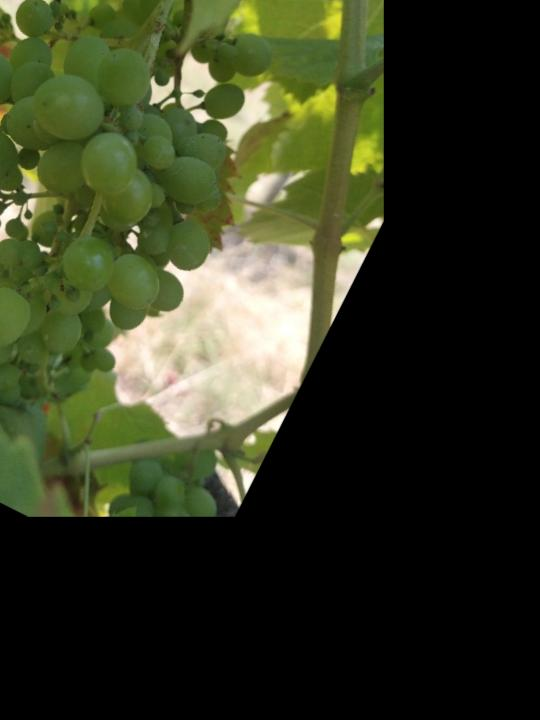grape: (0, 0, 360, 466)
